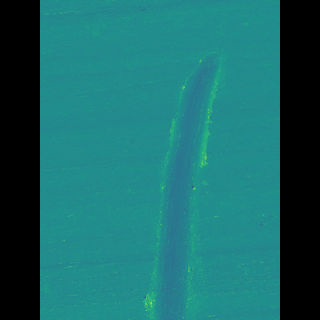Loch: (146, 44, 210, 320)
